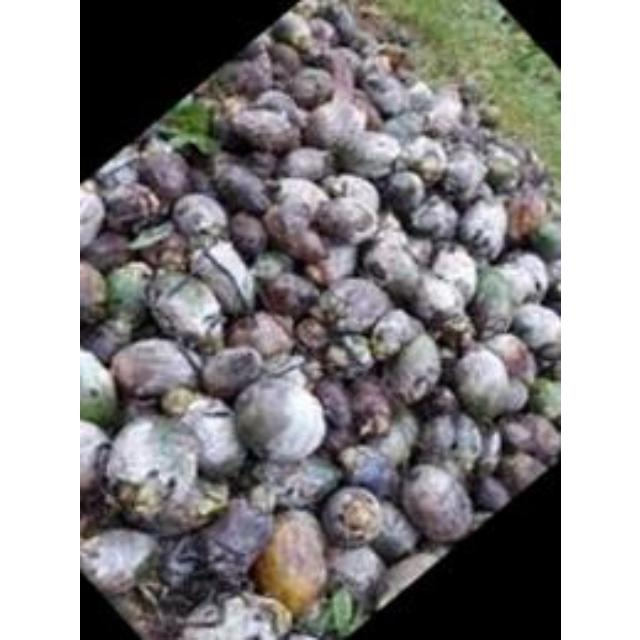damaged: (104, 412, 202, 506), (128, 472, 230, 534), (398, 462, 474, 542), (146, 272, 227, 346), (79, 524, 159, 598), (176, 396, 247, 479), (109, 338, 199, 402), (450, 348, 522, 422), (188, 242, 256, 318), (264, 198, 330, 264), (382, 332, 442, 404), (318, 484, 386, 546), (360, 229, 422, 295), (320, 276, 390, 334), (360, 407, 418, 469), (226, 105, 300, 153), (210, 158, 272, 214), (270, 457, 338, 508), (304, 96, 368, 150), (198, 344, 264, 396), (226, 312, 296, 361), (337, 442, 399, 496), (334, 129, 400, 179), (455, 197, 507, 260), (404, 272, 462, 328), (327, 542, 385, 598), (103, 262, 153, 326), (314, 193, 378, 243), (470, 267, 516, 335), (101, 183, 162, 234), (136, 146, 192, 200), (508, 304, 560, 361), (170, 192, 228, 242), (260, 270, 320, 318), (427, 244, 477, 300), (368, 307, 422, 358), (370, 504, 420, 558), (502, 413, 558, 461), (270, 176, 328, 222), (482, 332, 534, 383), (499, 252, 549, 302), (321, 332, 374, 376), (440, 150, 486, 200), (408, 194, 458, 240), (504, 192, 548, 244), (497, 451, 548, 495), (287, 66, 337, 110), (314, 376, 352, 432), (399, 136, 447, 180), (482, 143, 526, 191), (422, 88, 466, 136), (253, 90, 305, 130), (82, 231, 132, 271), (140, 228, 190, 268), (279, 146, 331, 184), (313, 245, 357, 289), (380, 169, 424, 213), (82, 322, 128, 364), (227, 211, 267, 257), (268, 10, 314, 50), (450, 414, 484, 468), (79, 260, 109, 320), (381, 108, 429, 144), (470, 474, 510, 512), (526, 376, 558, 422), (210, 57, 254, 89), (266, 42, 302, 80), (240, 147, 278, 180), (294, 315, 330, 349), (250, 250, 290, 280), (306, 16, 336, 46)
